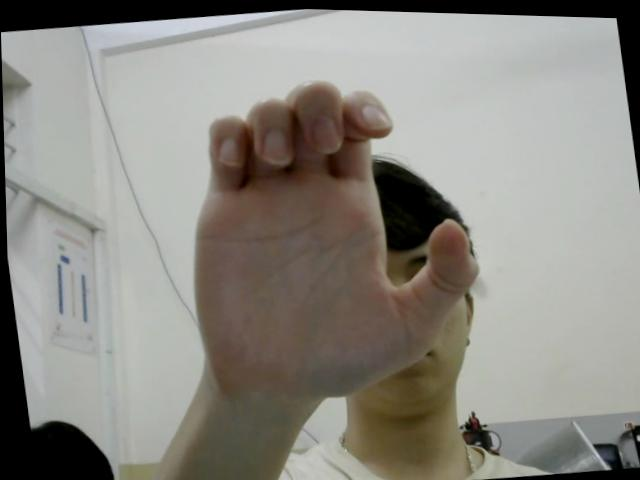E: (162, 56, 495, 411)
